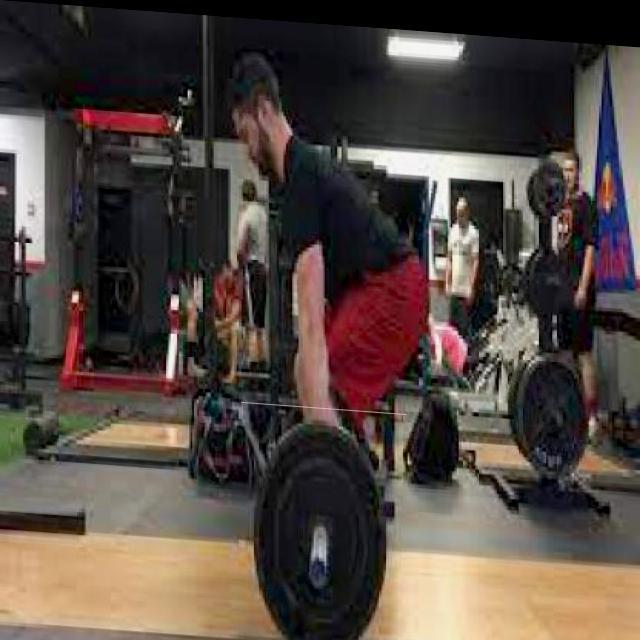barbell: (242, 399, 408, 640)
